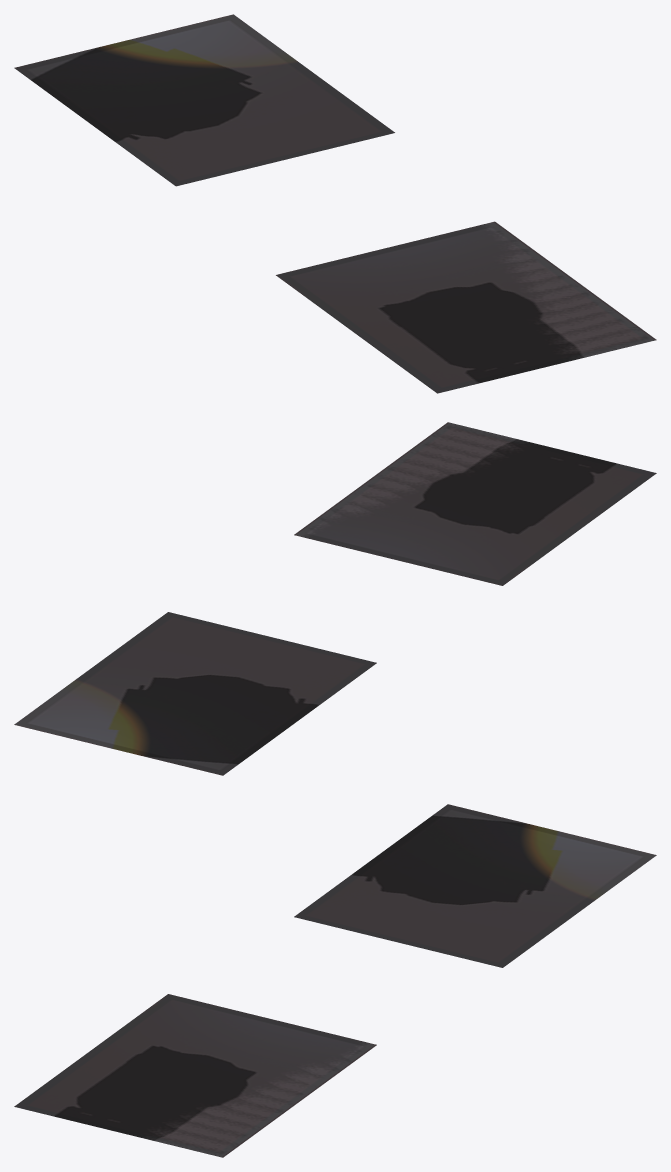
Rendered from Tx_prop_barber_carpets_1.fbx.
3 renders of one model, top to bottom at view 1: azimuth 30°, elevation 25°; view 2: azimuth 150°, elevation 25°; view 3: azimuth 330°, elevation 25°, orthographic. The views are drawn at different scales.
Parts seen in each view (by area): view 1: polySurface9, polySurface10; view 2: polySurface9, polySurface10; view 3: polySurface9, polySurface10.
Boxes of the visible parts, box(x1,y1,x2,y2) form: polySurface9: box(276, 221, 656, 393); polySurface10: box(14, 14, 394, 186); polySurface9: box(294, 422, 656, 585); polySurface10: box(14, 612, 376, 775); polySurface9: box(14, 994, 376, 1157); polySurface10: box(294, 804, 656, 967).
Size of the model in its own units: 5.83 by 0 by 18.84.
